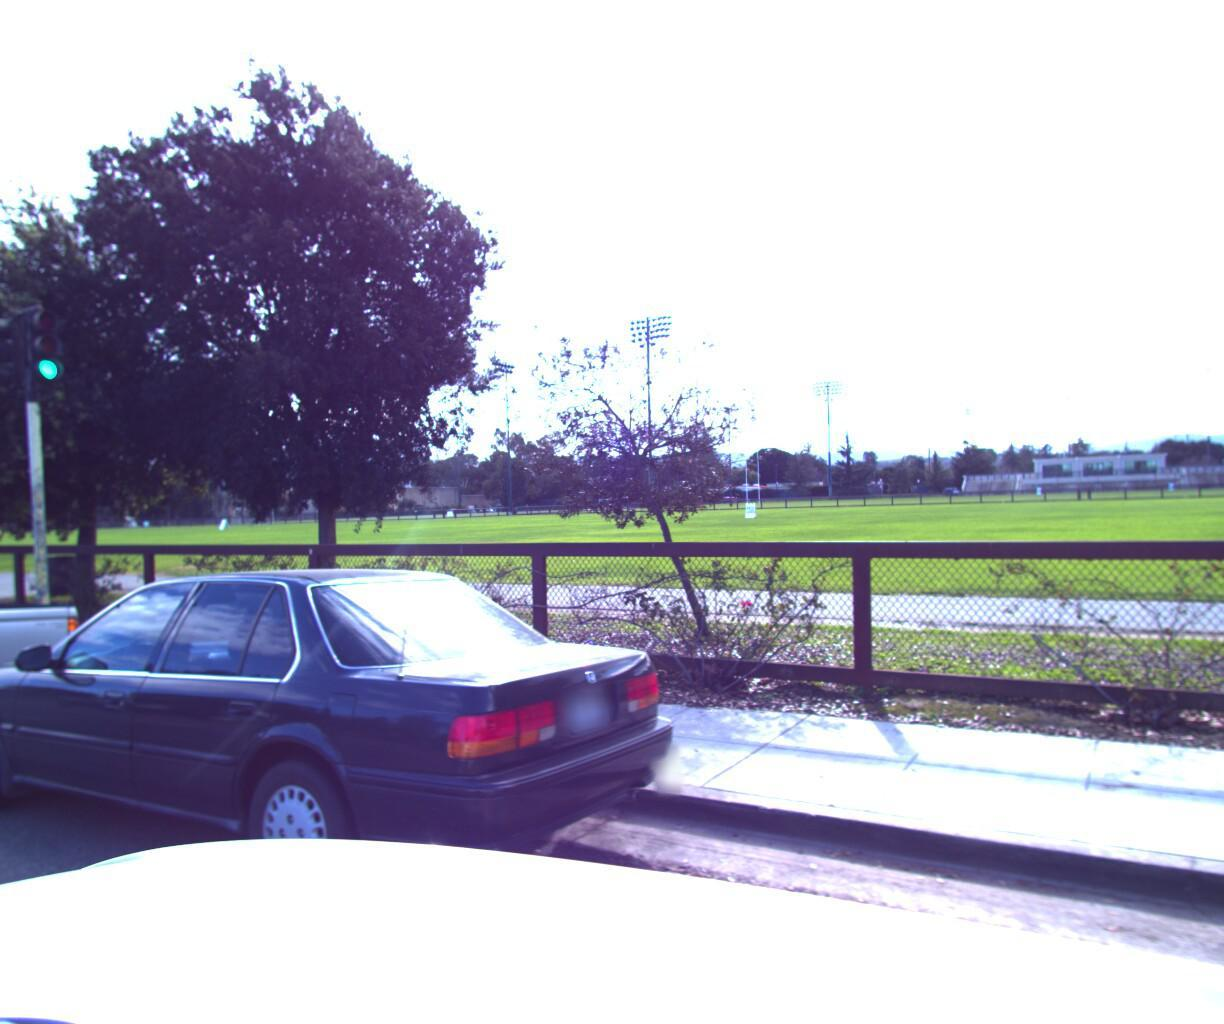car: (0, 556, 697, 1001), (0, 533, 109, 794)
